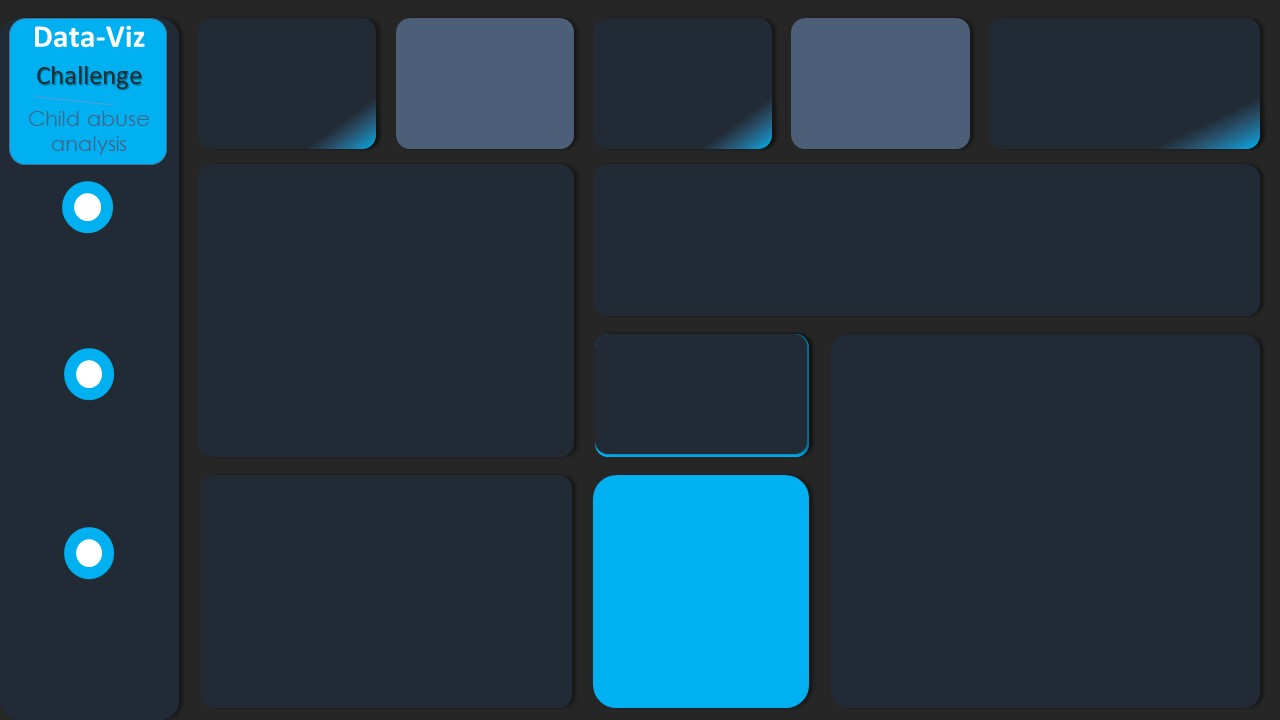

This screenshot's page, from the dashboard's own definition file:
{"tool":"powerbi","page":{"name":"Page 1","canvas":[1280,720],"ordinal":0},"visuals":[{"type":"textbox","box":[208,16,160,48],"z":0},{"type":"textbox","box":[400,16,176,48],"z":1000},{"type":"textbox","box":[592,16,177,48],"z":2000},{"type":"textbox","box":[784,16,192,48],"z":3000},{"type":"textbox","box":[992,16,272,48],"z":4000},{"type":"card","fields":{"Values":["All Measures.Total # of Legal Guardians"]},"box":[0,576,176,112],"z":5000},{"type":"card","fields":{"Values":["All Measures.Total # of States"]},"box":[400,32,176,96],"z":6000},{"type":"card","fields":{"Values":["All Measures.Total # of Perpetrators"]},"box":[592,32,176,112],"z":7000},{"type":"card","fields":{"Values":["All Measures.Total # of Foster Parents"]},"box":[800,32,160,112],"z":8000},{"type":"card","fields":{"Values":["All Measures.Total # of Unmarried Parents"]},"box":[1024,32,208,96],"z":9000},{"type":"textbox","box":[0,224,176,52],"z":10000},{"type":"textbox","box":[0,400,176,52],"z":11000},{"type":"textbox","box":[0,576,176,32],"z":12000},{"type":"card","fields":{"Values":["All Measures.Total # of Child Daycare Providers"]},"box":[0,256,176,80],"z":13000},{"type":"card","fields":{"Values":["All Measures.Total # of Multiple Relationships"]},"box":[0,432,176,80],"z":14000},{"type":"card","fields":{"Values":["All Measures.Total # of Parents"]},"box":[192,32,192,112],"z":15000},{"type":"columnChart","fields":{"Y":["Sum(data.Child Daycare Provider)"],"Category":["data.State"]},"box":[192,192,384,256],"z":16000},{"type":"textbox","box":[208,160,352,48],"z":17000},{"type":"columnChart","fields":{"Category":["data.State"],"Y":["Sum(data.Parent)"]},"box":[608,192,640,128],"z":18000},{"type":"textbox","box":[608,160,640,64],"z":19000},{"type":"donutChart","fields":{"Category":["data.State"],"Y":["Sum(data.Legal Guardian)"]},"box":[208,512,368,192],"z":20000},{"type":"textbox","box":[208,480,352,48],"z":21000},{"type":"card","fields":{"Values":["All Measures.Total # of Friends & Neighbors"]},"box":[592,560,224,96],"z":22000},{"type":"textbox","box":[592,544,224,48],"z":22001},{"type":"card","fields":{"Values":["All Measures.Total # of Other Professionals"]},"box":[608,352,192,80],"z":22002},{"type":"textbox","box":[592,336,224,48],"z":22003},{"type":"funnel","fields":{"Category":["data.State"],"Y":["Sum(data.Total Perpetrators)"]},"box":[848,432,400,256],"z":22004},{"type":"textbox","box":[848,336,400,96],"z":22005}]}

Visuals, with their boxes in screenshot pixels (x1, y1, x2, y2), scaled from the page's 1280x720 canvas onto the 1280x720 screenshot:
textbox: rect(208, 16, 368, 64)
textbox: rect(400, 16, 576, 64)
textbox: rect(592, 16, 769, 64)
textbox: rect(784, 16, 976, 64)
textbox: rect(992, 16, 1264, 64)
card - All Measures.Total # of Legal Guardians: rect(0, 576, 176, 688)
card - All Measures.Total # of States: rect(400, 32, 576, 128)
card - All Measures.Total # of Perpetrators: rect(592, 32, 768, 144)
card - All Measures.Total # of Foster Parents: rect(800, 32, 960, 144)
card - All Measures.Total # of Unmarried Parents: rect(1024, 32, 1232, 128)
textbox: rect(0, 224, 176, 276)
textbox: rect(0, 400, 176, 452)
textbox: rect(0, 576, 176, 608)
card - All Measures.Total # of Child Daycare Providers: rect(0, 256, 176, 336)
card - All Measures.Total # of Multiple Relationships: rect(0, 432, 176, 512)
card - All Measures.Total # of Parents: rect(192, 32, 384, 144)
columnChart - Sum(data.Child Daycare Provider) x data.State: rect(192, 192, 576, 448)
textbox: rect(208, 160, 560, 208)
columnChart - data.State x Sum(data.Parent): rect(608, 192, 1248, 320)
textbox: rect(608, 160, 1248, 224)
donutChart - data.State x Sum(data.Legal Guardian): rect(208, 512, 576, 704)
textbox: rect(208, 480, 560, 528)
card - All Measures.Total # of Friends & Neighbors: rect(592, 560, 816, 656)
textbox: rect(592, 544, 816, 592)
card - All Measures.Total # of Other Professionals: rect(608, 352, 800, 432)
textbox: rect(592, 336, 816, 384)
funnel - data.State x Sum(data.Total Perpetrators): rect(848, 432, 1248, 688)
textbox: rect(848, 336, 1248, 432)
